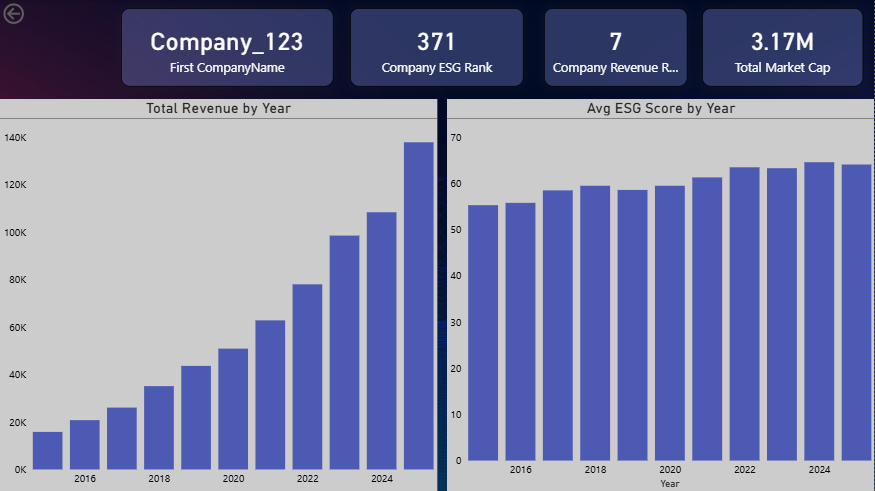

This screenshot's page, from the dashboard's own definition file:
{"tool":"powerbi","page":{"name":"Company Drill-Through","canvas":[1280,720],"ordinal":5},"visuals":[{"type":"actionButton","box":[0,0,100,40],"z":0},{"type":"columnChart","fields":{"Category":["DimDate.Year"],"Y":["All measures.Total Revenue"]},"box":[0,144.9,639.5,575.1],"z":1000},{"type":"columnChart","fields":{"Category":["DimDate.Year"],"Y":["All measures.Avg ESG Score"]},"box":[654.1,144.9,626.3,575.1],"z":2000},{"type":"card","fields":{"Values":["All measures.Company ESG Rank"]},"box":[512.9,12.2,254.2,114.8],"z":3000},{"type":"card","fields":{"Values":["Min(DimCompany.CompanyName)"]},"box":[177.6,12.2,310.8,114.8],"z":4000},{"type":"card","fields":{"Values":["All measures.Company Revenue Rank"]},"box":[796.2,12.2,209.8,114.8],"z":5000},{"type":"card","fields":{"Values":["All measures.Total Market Cap"]},"box":[1027.4,12.2,235.8,114.8],"z":6000}]}

Visuals, with their boxes in screenshot pixels (x1, y1, x2, y2), scaled from the page's 1280x720 canvas onto the 875x491 screenshot:
actionButton: select_region(0, 0, 68, 27)
columnChart - DimDate.Year x All measures.Total Revenue: select_region(0, 99, 437, 490)
columnChart - DimDate.Year x All measures.Avg ESG Score: select_region(447, 99, 874, 490)
card - All measures.Company ESG Rank: select_region(351, 8, 524, 87)
card - Min(DimCompany.CompanyName): select_region(121, 8, 334, 87)
card - All measures.Company Revenue Rank: select_region(544, 8, 688, 87)
card - All measures.Total Market Cap: select_region(702, 8, 864, 87)
